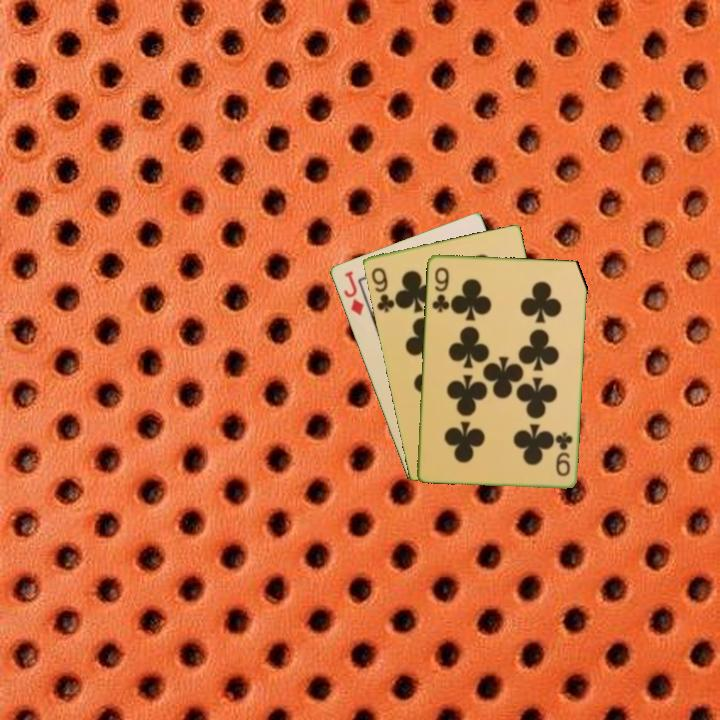9c: (367, 264, 397, 315), (428, 263, 452, 315), (552, 428, 575, 479)
Jd: (340, 267, 367, 318)
